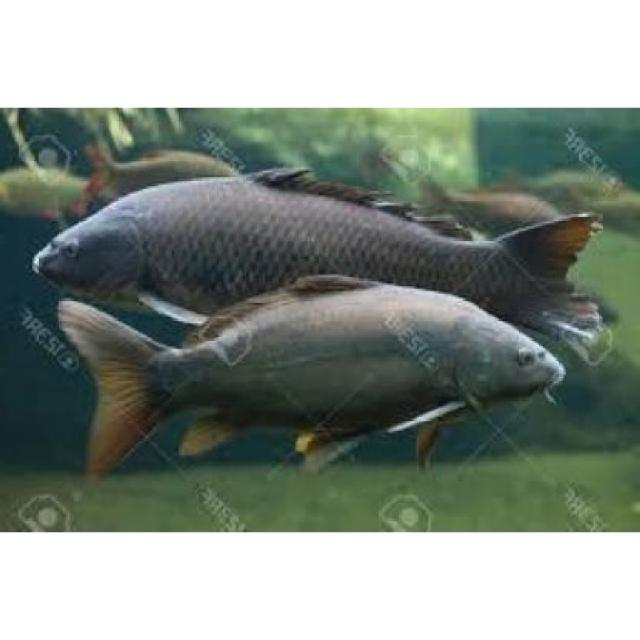ikan-mas: (56, 283, 566, 452), (33, 175, 610, 311)
